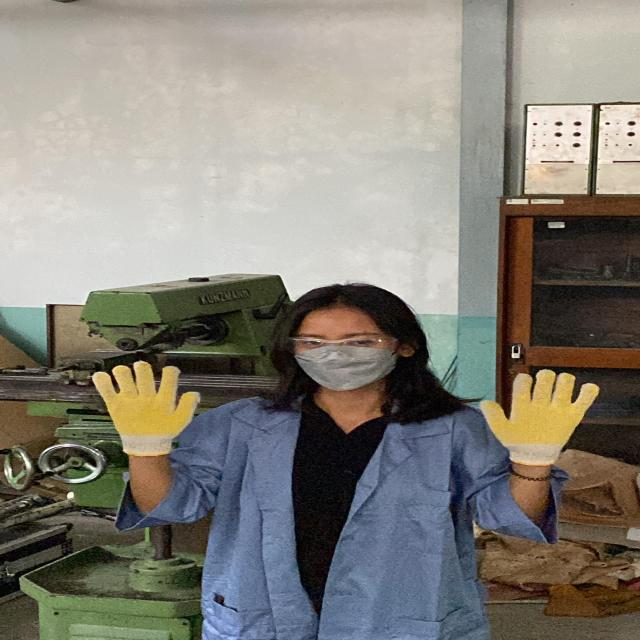face_mask: (284, 333, 402, 392)
glasses: (275, 334, 402, 359)
hand_glove: (470, 365, 606, 463), (88, 358, 208, 451)
head_nohelmet: (281, 276, 409, 329)
person: (81, 278, 603, 640)
